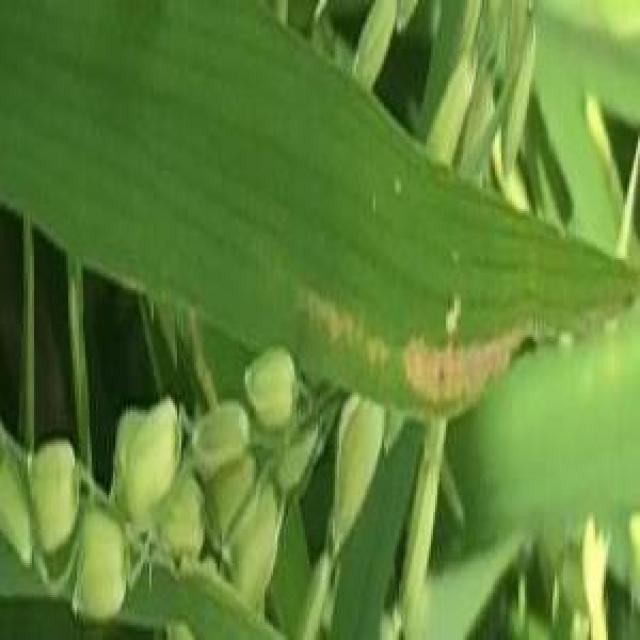Bacterial_Blight: (398, 313, 546, 408), (304, 287, 356, 342), (364, 337, 391, 371)
